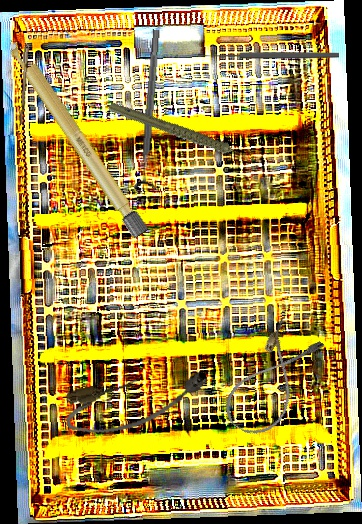Cannula: (216, 315, 329, 446), (60, 362, 214, 441)
Fixation Ring: (132, 28, 170, 191)
Handpiece: (106, 75, 253, 193)
Scalpel Handle: (2, 33, 151, 240)
Surgical Spoon: (19, 18, 31, 125), (198, 51, 339, 59)
